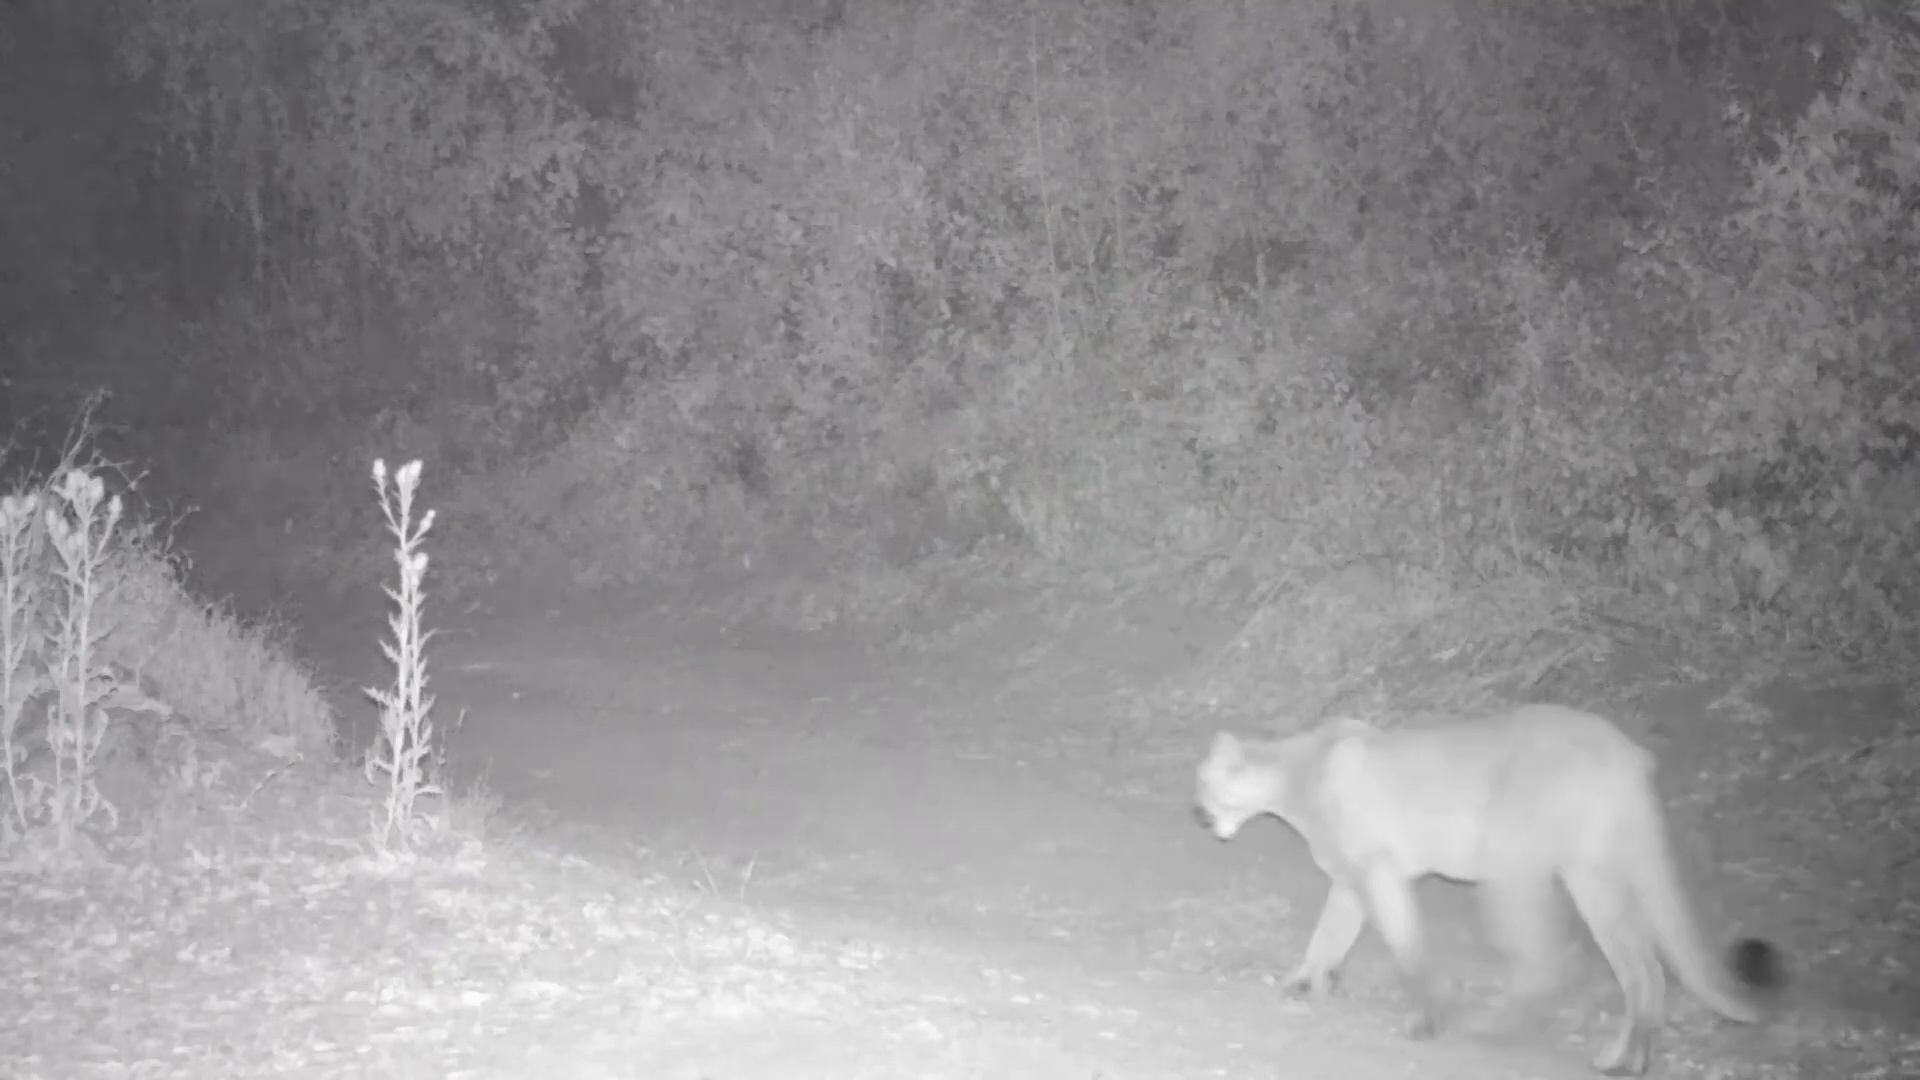Lion: (1182, 700, 1793, 1077)
